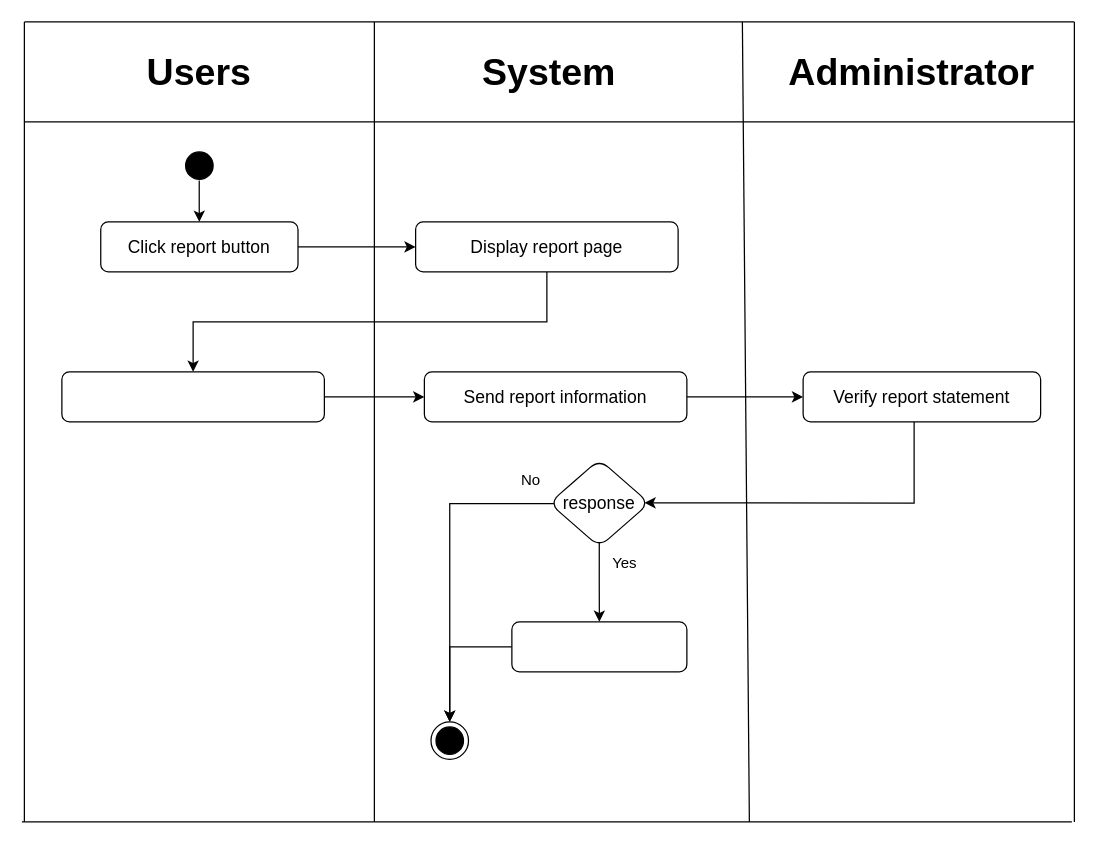
Some shapes in this 1098 by 845 pixel diagram are drawn without their labels. The shapes that lost their labels are listed below. From the top down, each one's box as (x1, y1, x2, y2) in pixels, then its label:
(61, 371, 324, 422): Enter complaint description
(511, 621, 687, 672): Send warning
